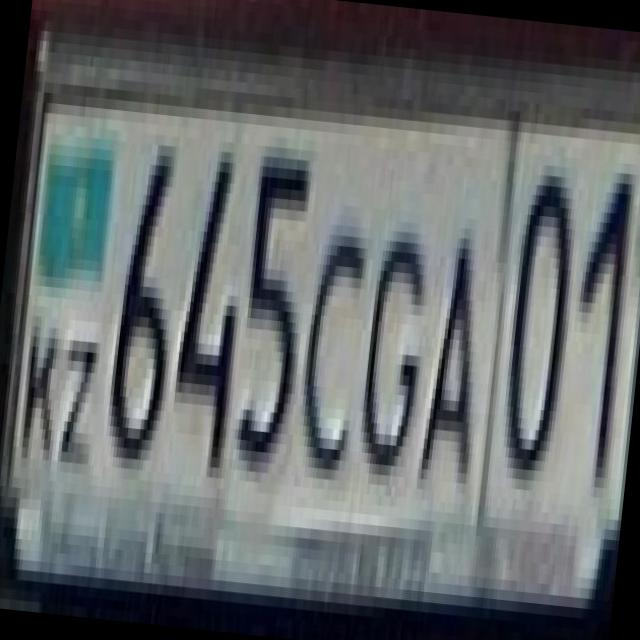0: (482, 142, 586, 472)
1: (552, 139, 640, 478)
4: (159, 118, 261, 458)
5: (218, 114, 322, 454)
6: (87, 110, 194, 472)
A: (409, 194, 498, 474)
C: (286, 192, 378, 472)
G: (348, 198, 439, 468)
